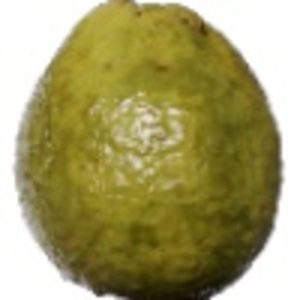goiaba: (11, 4, 286, 295)
